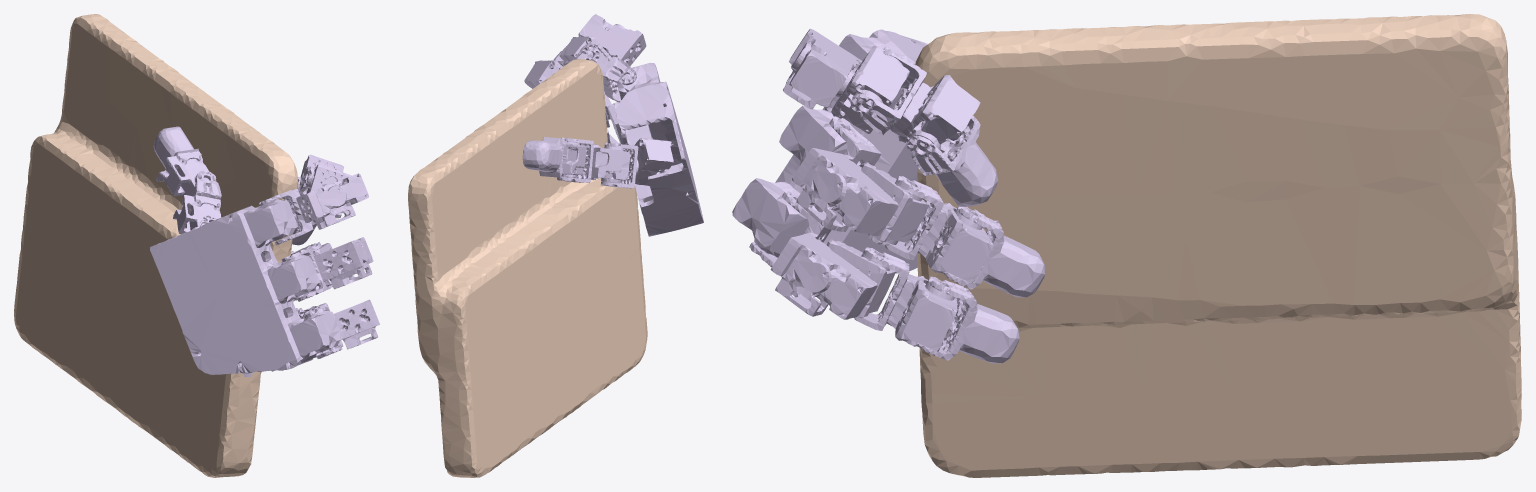
Rendered from 0e18713fa1bfdb-final.glb.
3 views of the same model, side by side, from view 1: azimuth 30°, elevation 25°; view 2: azimuth 150°, elevation 25°; view 3: azimuth 270°, elevation 25° (orthographic). The views are drawn at different scales.
Parts seen in each view (by area): view 1: world, LEAP_hand; view 2: world, LEAP_hand; view 3: world, LEAP_hand.
Boxes of the visible parts, left/top/right/bottom form: world: left=14, top=14, right=298, bottom=477; LEAP_hand: left=150, top=126, right=379, bottom=377; world: left=408, top=59, right=647, bottom=477; LEAP_hand: left=522, top=14, right=703, bottom=236; world: left=915, top=14, right=1521, bottom=477; LEAP_hand: left=732, top=28, right=1045, bottom=363.
Size of the model in its own units: 0.1582 by 0.2683 by 0.4003.
